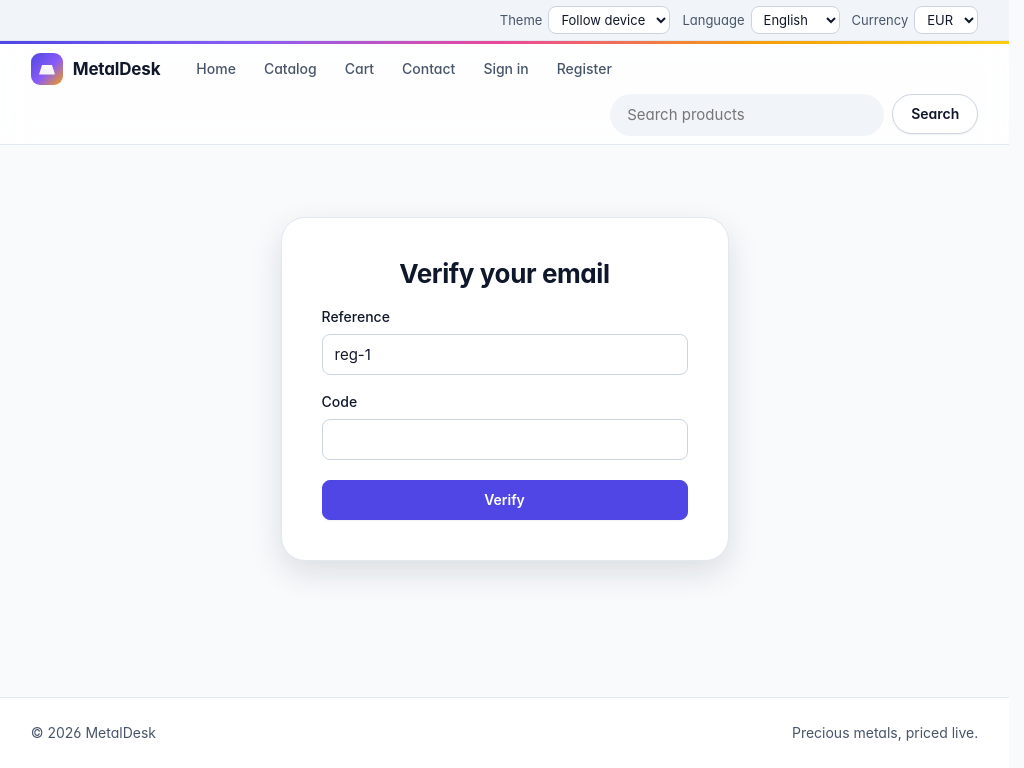
Test case: registration and verification › verifies with the right code
Step 1. Type "123456" into the field labelled "Code" → (504, 440), box [322, 419, 688, 460]
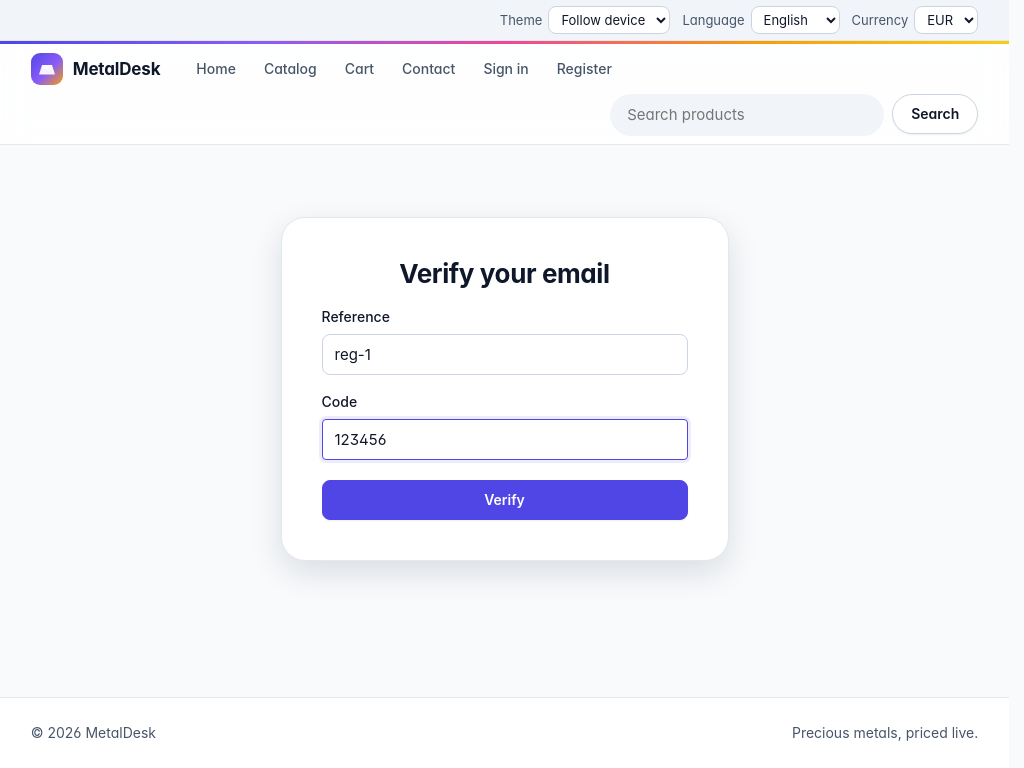
Step 2. Click the button "Verify" → (504, 500), box [322, 480, 688, 520]
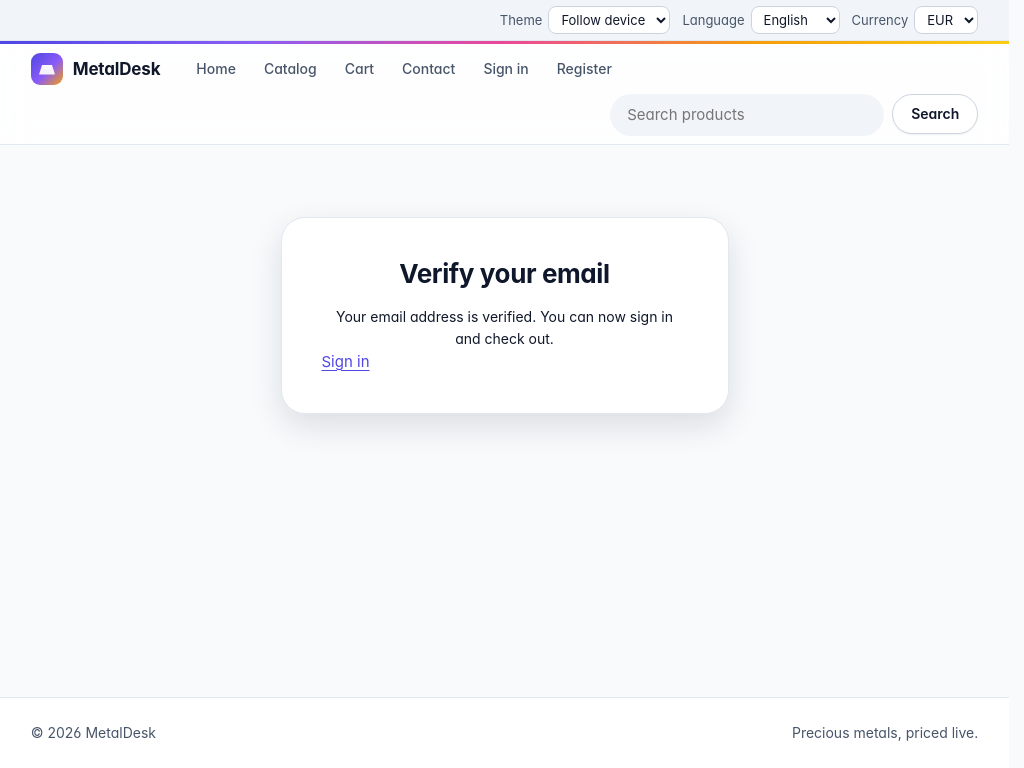
Check: the message shows "Your email address is verified", box [336, 308, 673, 347]
